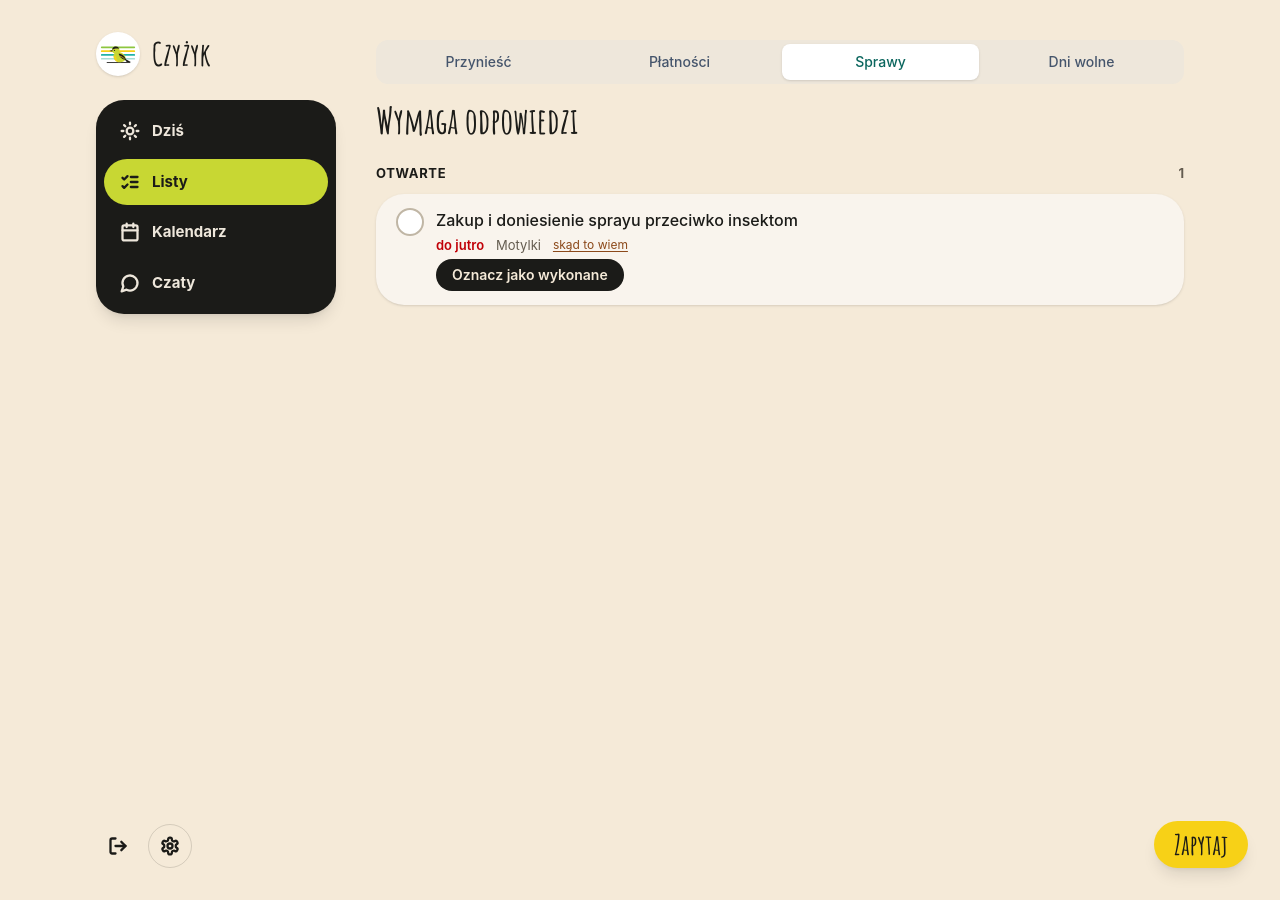
Test case: „Wymaga odpowiedzi”: tylko „Oznacz jako wykonane” › lista nie pokazuje proponowanych akcji, przycisk zamyka sprawę
Click the button named "Oznacz jako wykonane: Zakup i doniesienie sprayu przeciwko insektom": x=530, y=275 [436, 259, 624, 291]
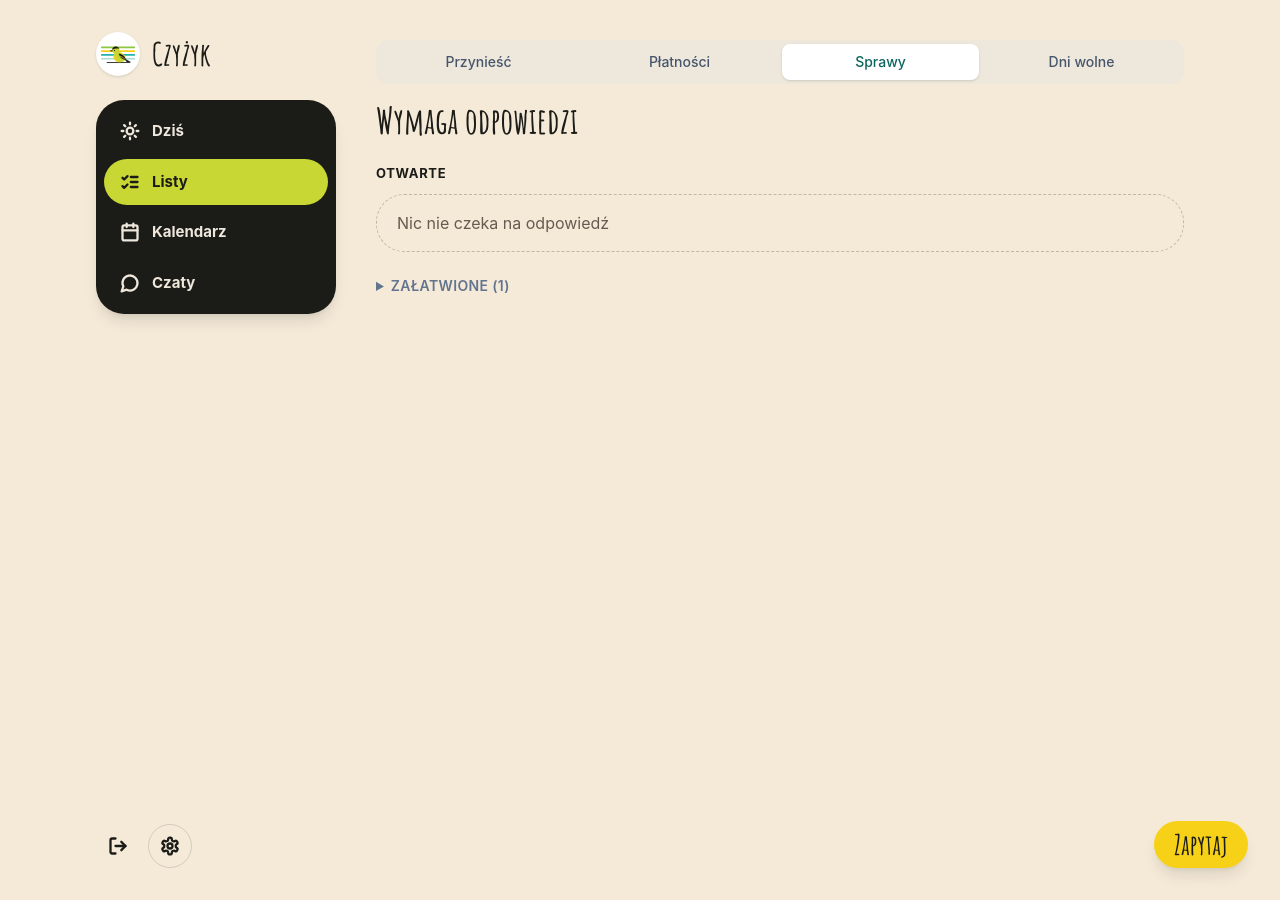
Expected: the button "Oznacz jako wykonane" is gone
